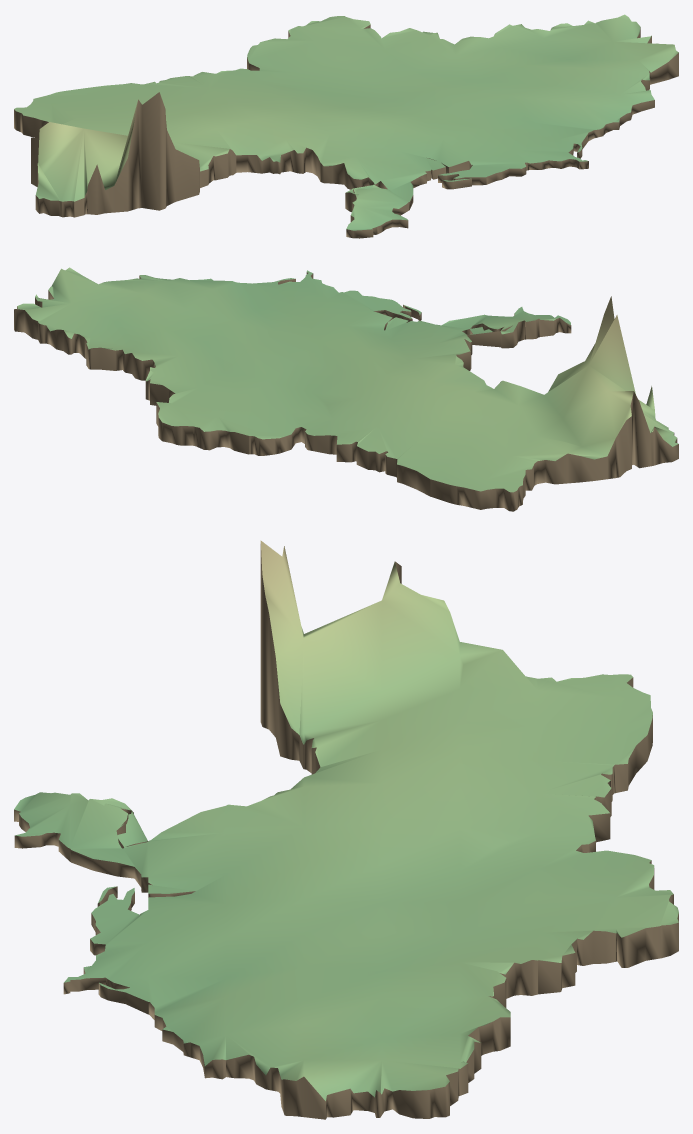
The model's file is UKR.glb.
3 views of the same model, one above another, from view 1: azimuth 30°, elevation 25°; view 2: azimuth 150°, elevation 25°; view 3: azimuth 270°, elevation 25° (orthographic). The views are drawn at different scales.
Visible parts, largest first — view 1: UKR; view 2: UKR; view 3: UKR.
Part boxes in pixels (bbox=[...]): UKR: bbox=[14, 14, 678, 238]; UKR: bbox=[14, 267, 678, 511]; UKR: bbox=[14, 540, 678, 1119].
Size of the model in its own units: 1.86 by 0.338 by 1.12.
